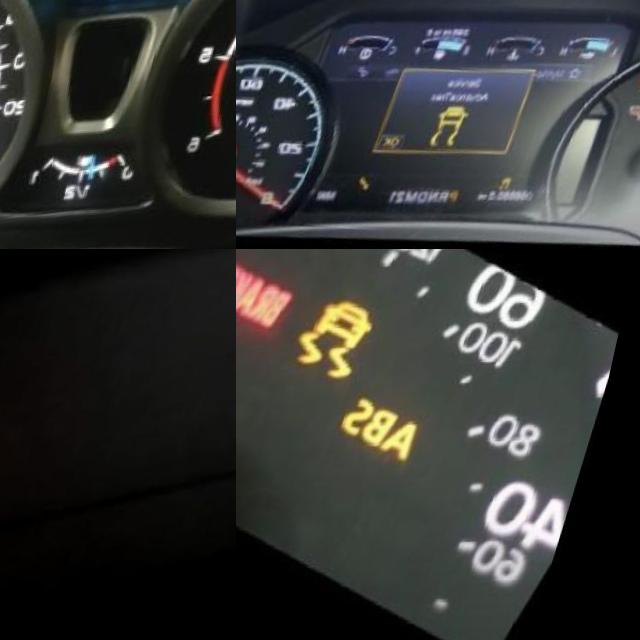Engine cooling system: (522, 58, 536, 71)
Low fuel level: (448, 57, 459, 68)
